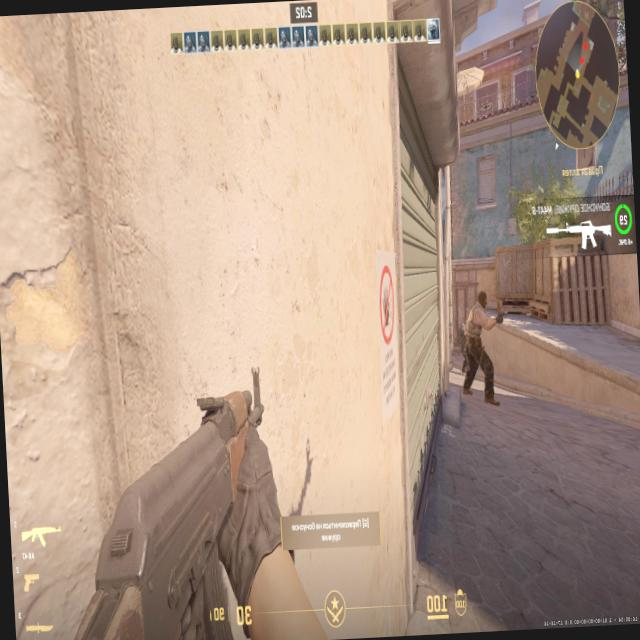T: (469, 293, 489, 388)
T_heat: (477, 297, 486, 310)
